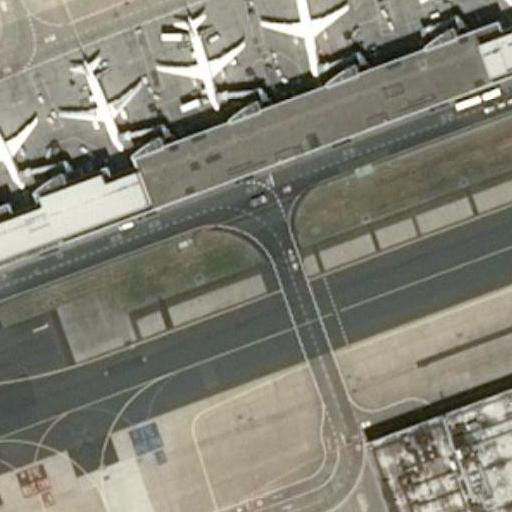Aircraft: (144, 10, 255, 114), (52, 48, 148, 155), (149, 8, 246, 113), (59, 51, 149, 151), (255, 0, 350, 78), (261, 0, 353, 75), (0, 96, 49, 196), (0, 89, 43, 192), (438, 0, 512, 11), (439, 0, 512, 11)
